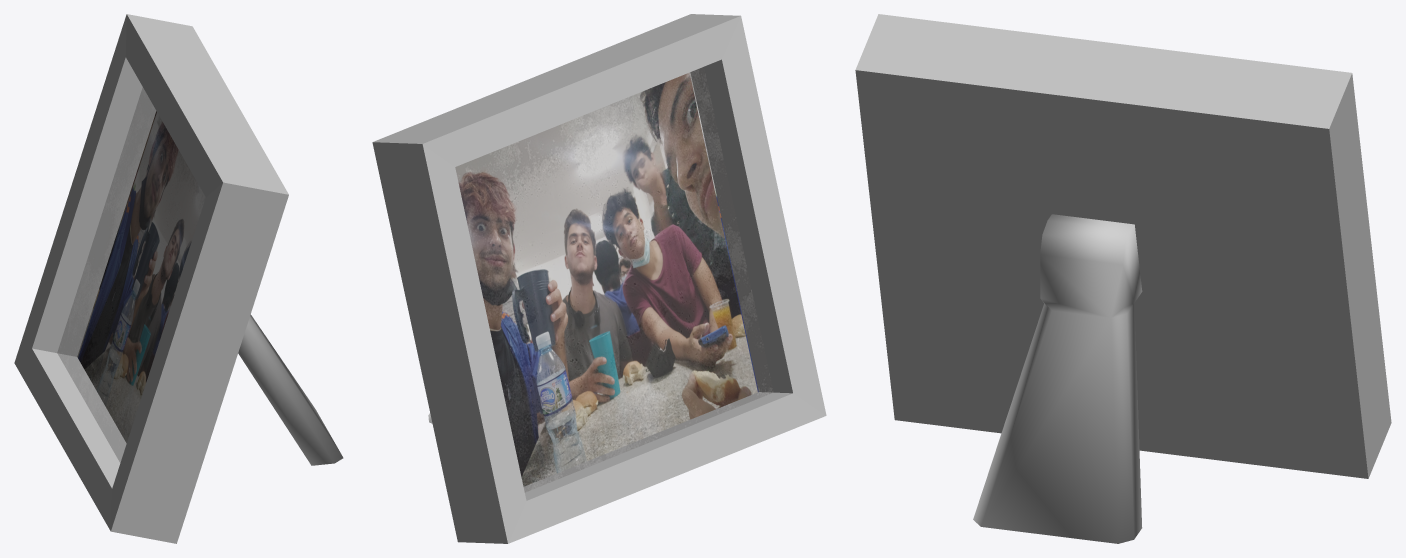
File: WIXELL.fbx
The picture shows the model from 3 angles, left to right: view 1: azimuth 30°, elevation 25°; view 2: azimuth 150°, elevation 25°; view 3: azimuth 270°, elevation 25°; orthographic projection. The views are drawn at different scales.
Parts seen in each view (by area): view 1: Cube.435; view 2: Cube.435; view 3: Cube.435.
Part boxes in pixels (box(x1,y1,x2,y2)): Cube.435: box(14, 14, 343, 543); Cube.435: box(372, 14, 826, 543); Cube.435: box(855, 14, 1391, 543).
Size of the model in its own units: 75.89 by 64.14 by 85.87.
